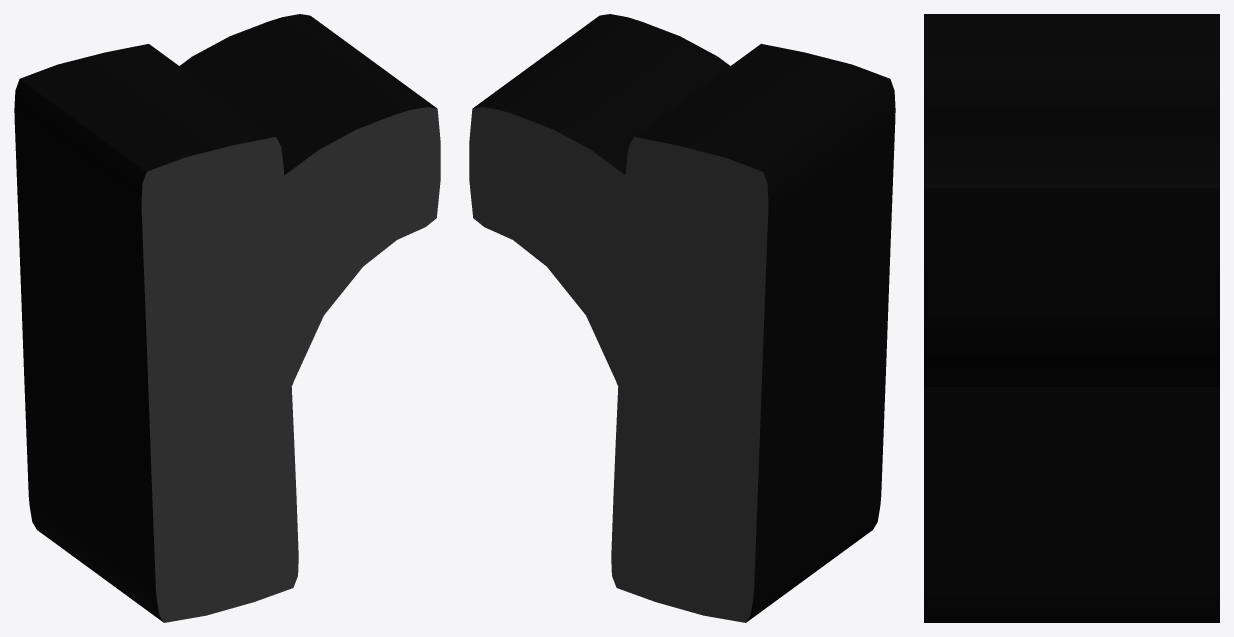
File: 0d9e0307-cba7-4c4d-8efb-21865306c75c.glb
3 renders of one model, left to right at view 1: azimuth 30°, elevation 25°; view 2: azimuth 150°, elevation 25°; view 3: azimuth 270°, elevation 25°, orthographic. The views are drawn at different scales.
Parts seen in each view (by area): view 1: r_Zyzol_Black; view 2: r_Zyzol_Black; view 3: r_Zyzol_Black.
Part boxes in pixels (x1,y1,x2,y2): r_Zyzol_Black: (14,14,440,622); r_Zyzol_Black: (469,14,895,622); r_Zyzol_Black: (924,14,1219,622).
Size of what is drawn, in the model's own units: 0.0611 by 0.0906 by 0.045.
Materials: 2 (2 with a texture image).
